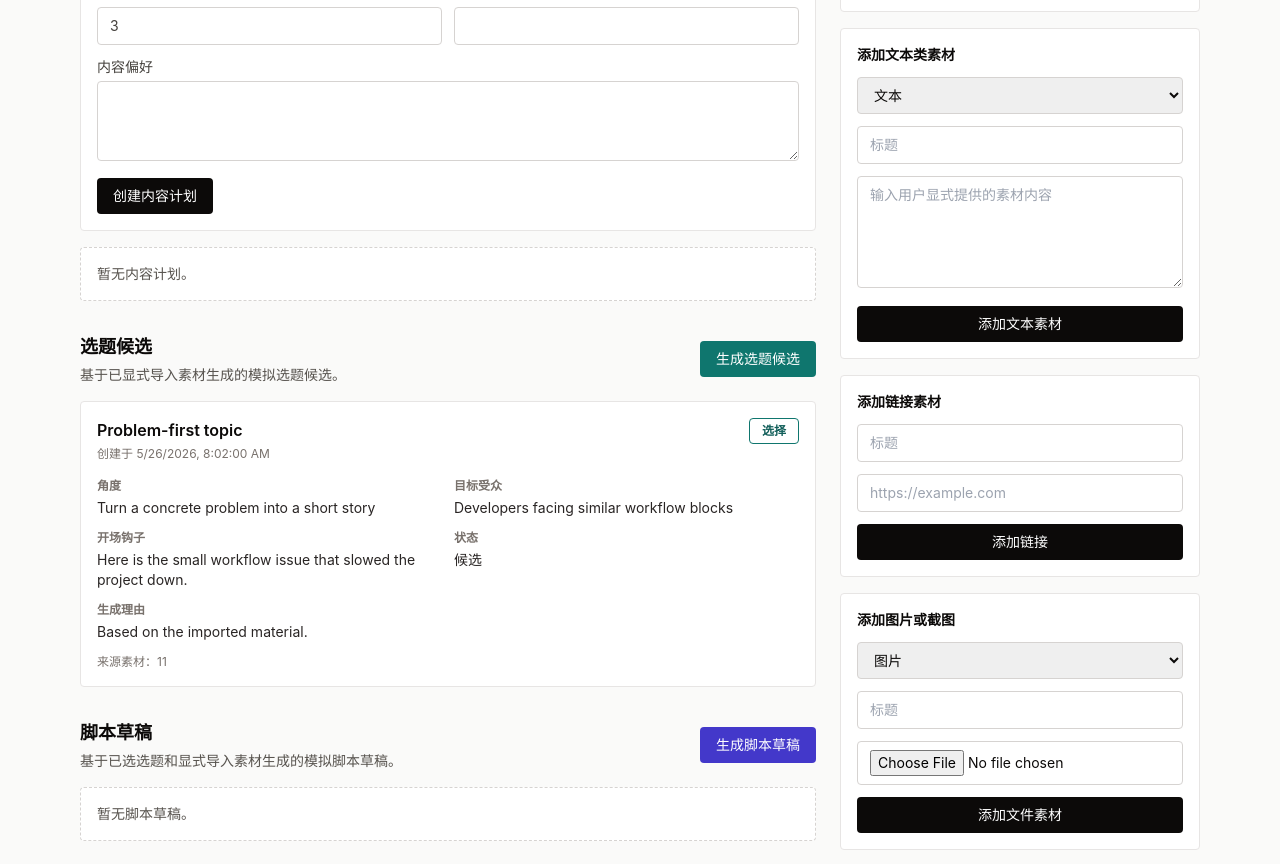
it: ProjectDetailPage topic candidates › shows a read-only message when select returns archived 409
The width and height of the screenshot is (1280, 864).
(page scrolled)
Click the button "选择": (774, 431) [749, 418, 799, 444]
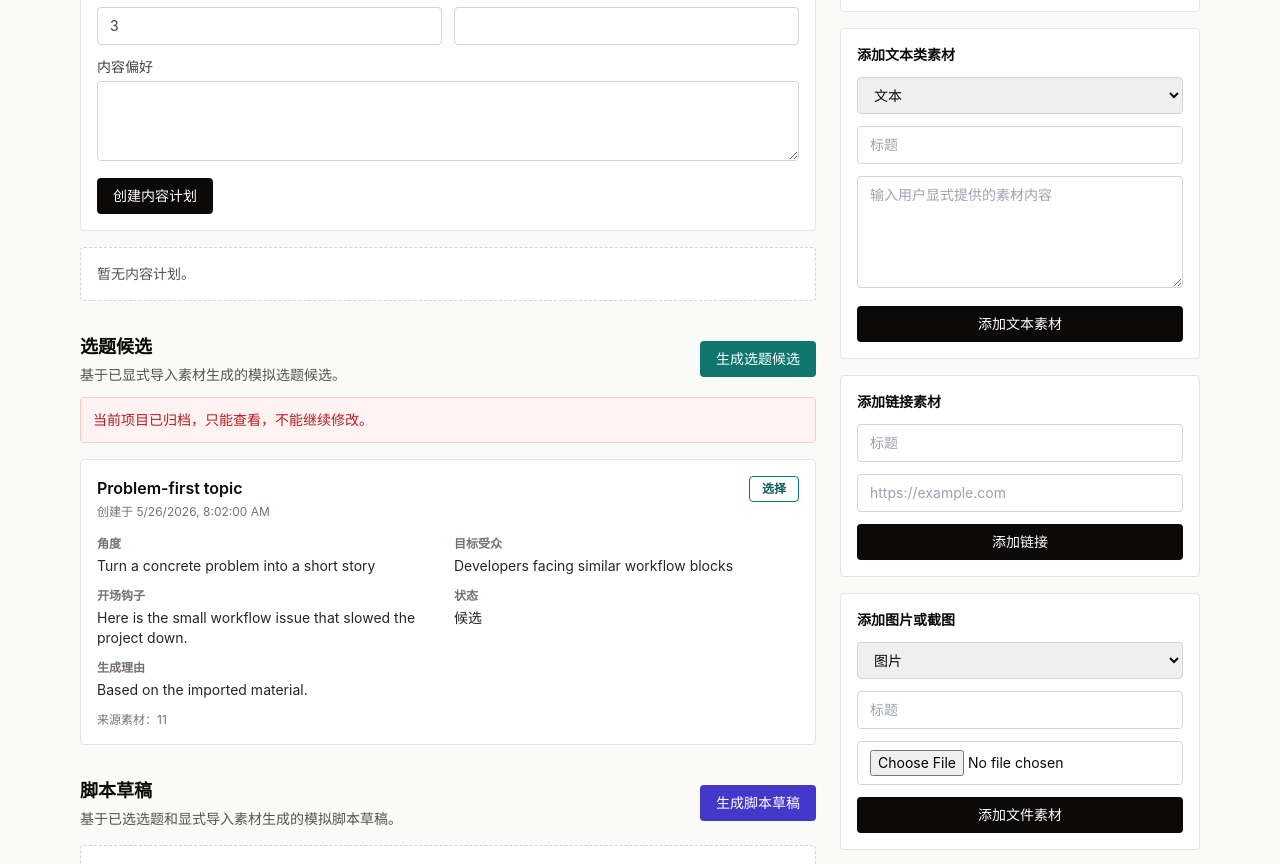
Expected: the text "当前项目已归档，只能查看，不能继续修改。" is shown, [80, 397, 816, 443]
